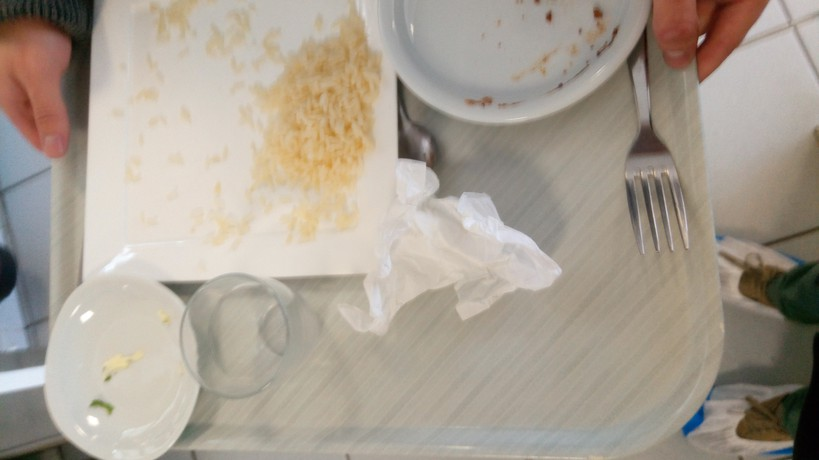cup: (170, 269, 318, 404)
cutlery: (601, 13, 707, 254)
orga: (260, 28, 387, 233)
trash: (366, 167, 579, 339)
